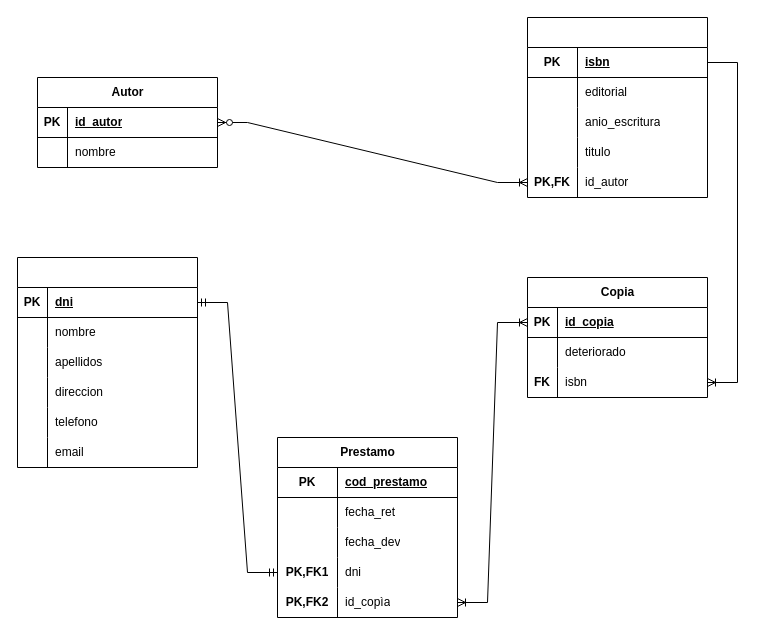
The diagram is 763 pixels wide and 635 high, and some of its shapes have lost their labels. The box of each missing label's shape, as (x1, y1, x2, y2) in pixels:
Libro: (526, 16, 708, 198)
Persona: (16, 256, 198, 468)
